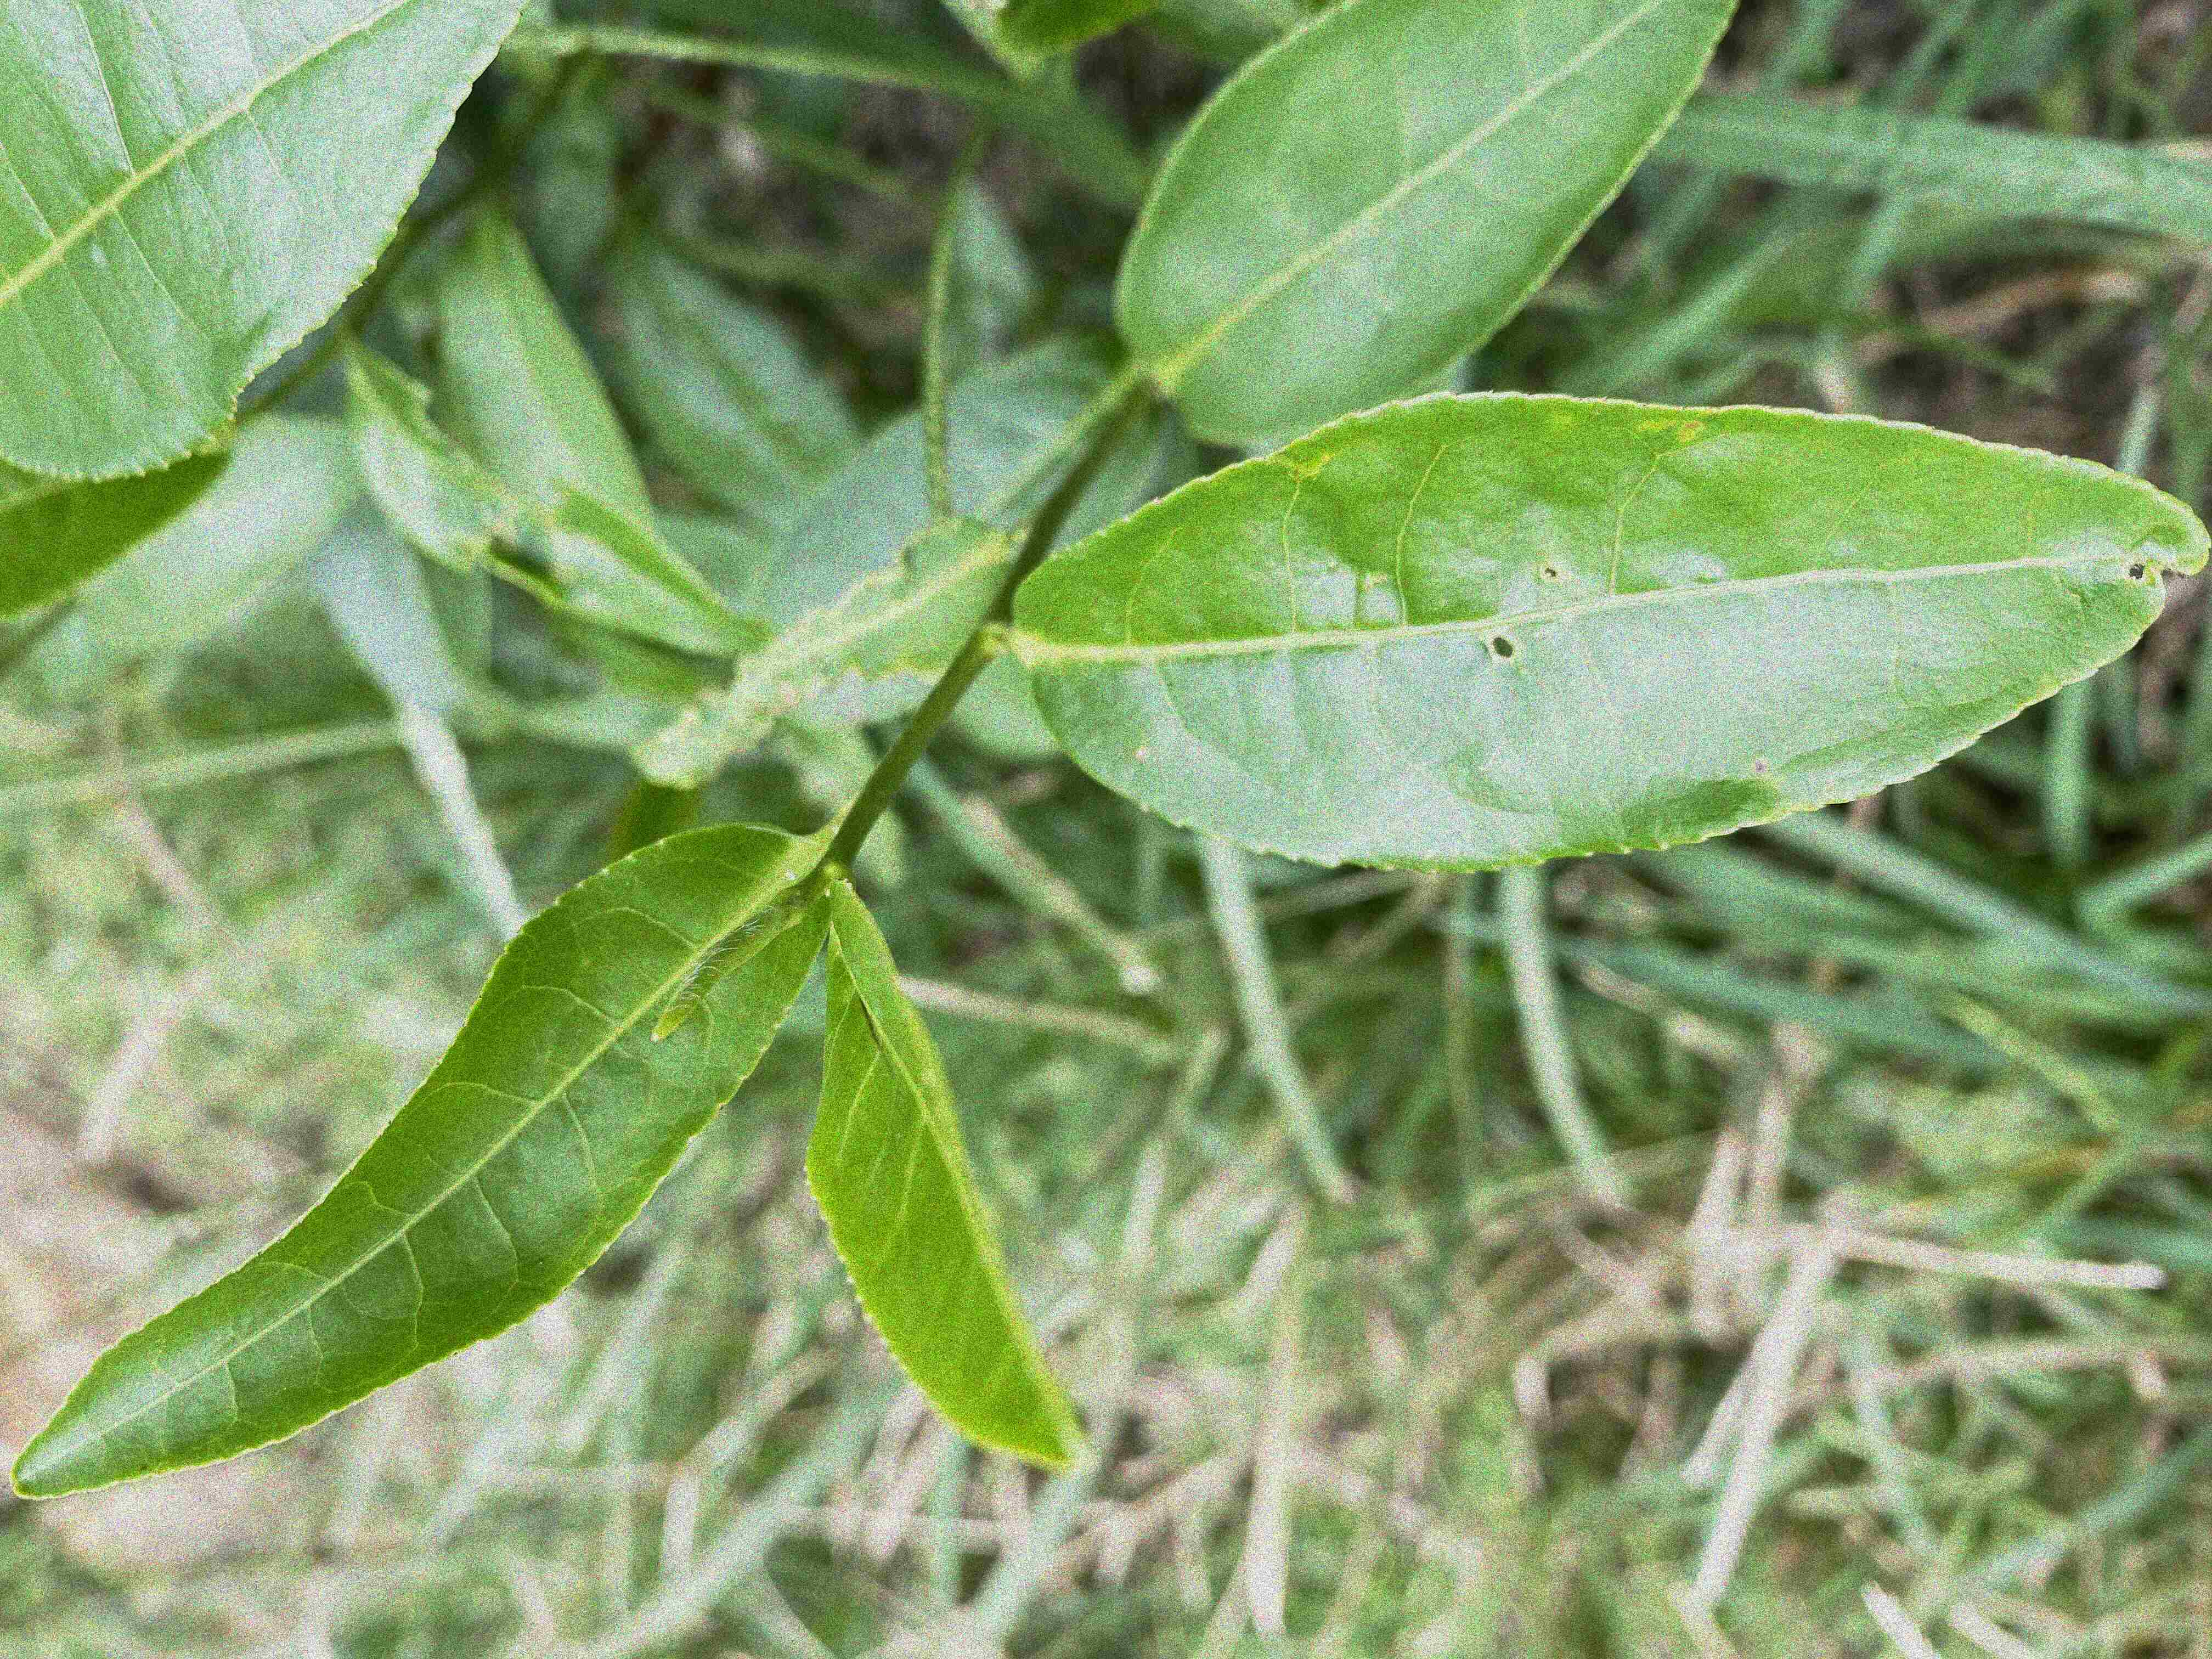chihuo_high: (632, 525, 1010, 796)
chihuo_low: (1008, 401, 2202, 877)
healthy: (9, 824, 833, 1502), (5, 3, 529, 481)
